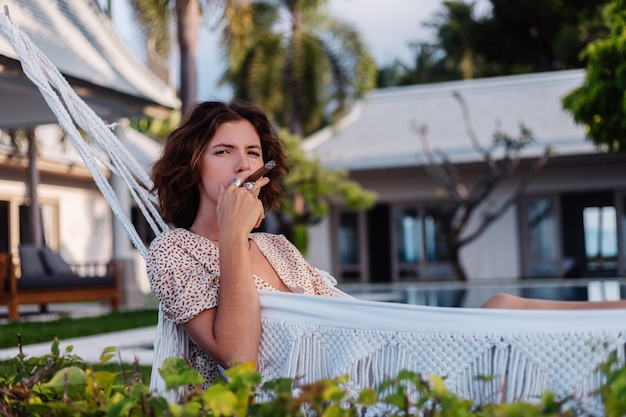cigarette: (242, 159, 277, 186)
